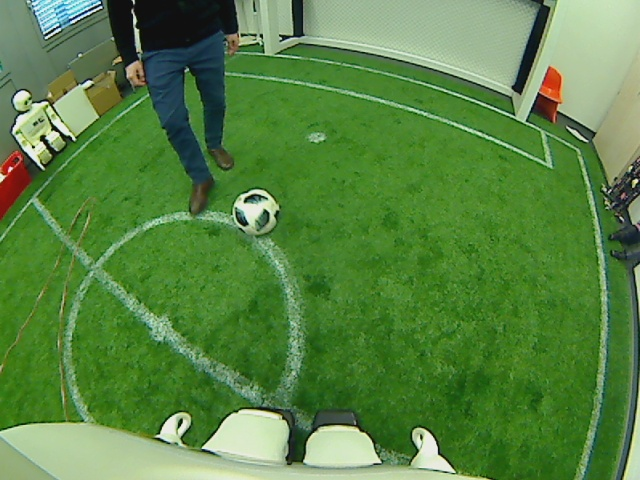ball: (233, 187, 278, 236)
